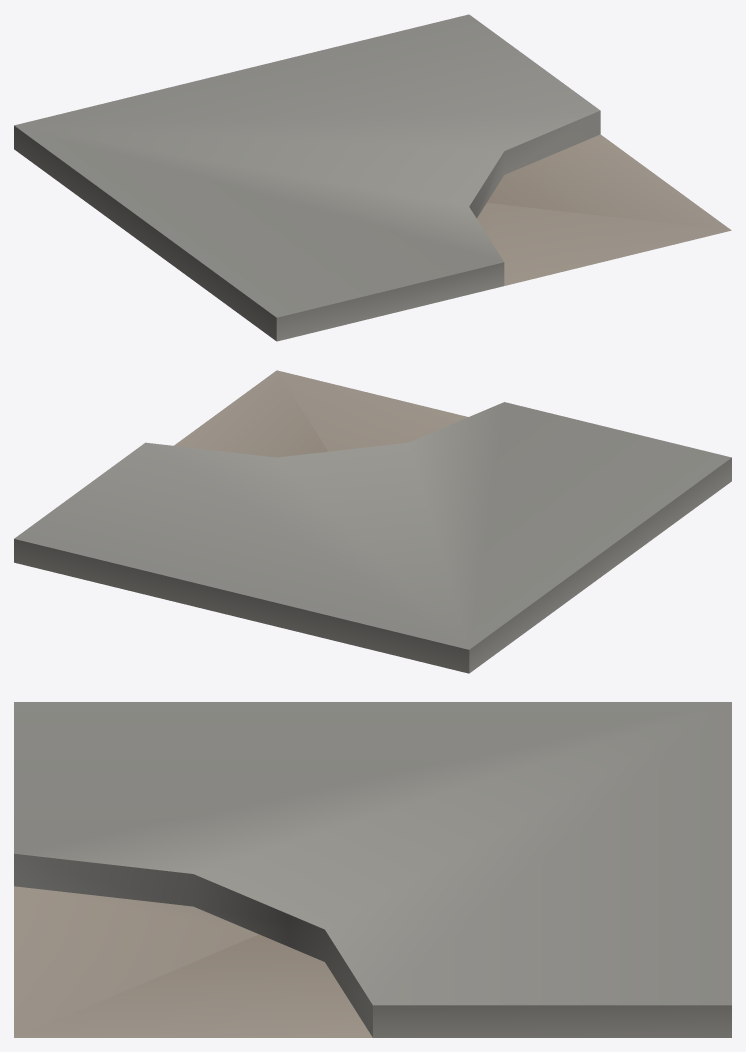
File: road-dirt-corner-inner.glb
3 views of the same model, one above another, from view 1: azimuth 30°, elevation 25°; view 2: azimuth 150°, elevation 25°; view 3: azimuth 270°, elevation 25° (orthographic). The views are drawn at different scales.
Visible parts, largest first — view 1: road-dirt-corner-inner; view 2: road-dirt-corner-inner; view 3: road-dirt-corner-inner.
Boxes of the visible parts, x1,y1,x2,y2 form: road-dirt-corner-inner: [14, 14, 731, 341]; road-dirt-corner-inner: [14, 370, 731, 673]; road-dirt-corner-inner: [14, 702, 731, 1037].
Bounding box in the file's own units: 1 × 0.05 × 1.
